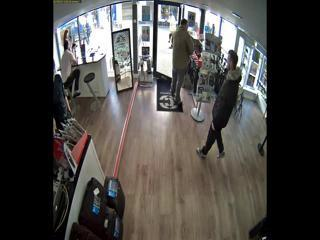Normal: (196, 49, 242, 160), (168, 19, 194, 106)
